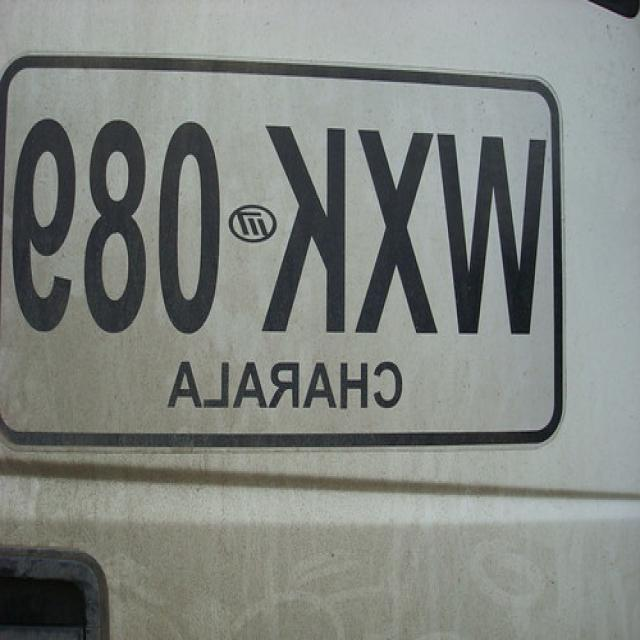placas: (4, 105, 547, 350)
